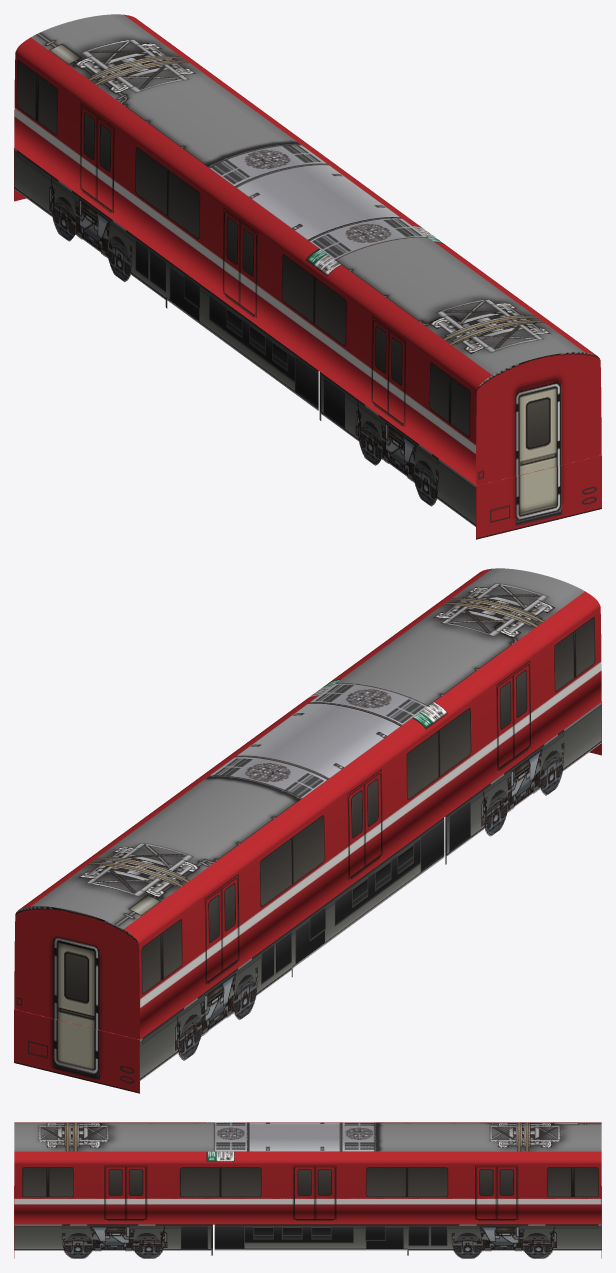
Rendered from car3.glb.
The picture shows the model from 3 angles, top to bottom: view 1: azimuth 30°, elevation 25°; view 2: azimuth 150°, elevation 25°; view 3: azimuth 270°, elevation 25°; orthographic projection. The views are drawn at different scales.
Visible parts, largest first — view 1: keikyu-1500-car3; view 2: keikyu-1500-car3; view 3: keikyu-1500-car3.
Part boxes in pixels (x1,y1,x2,y2): keikyu-1500-car3: [14, 14, 601, 539]; keikyu-1500-car3: [14, 568, 601, 1093]; keikyu-1500-car3: [14, 1122, 601, 1258].
Size of the model in its own units: 2.83 by 3.58 by 18.03.
Materials: 9 (8 with a texture image).
